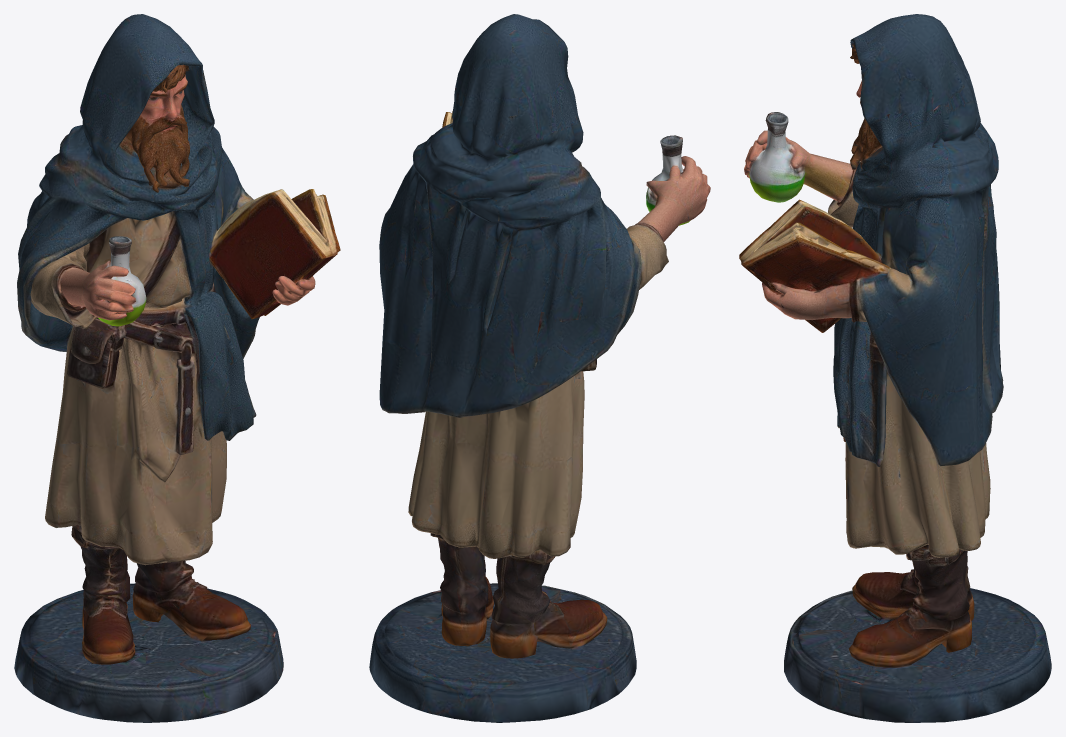
The model's file is alchimista.glb.
The picture shows the model from 3 angles, left to right: view 1: azimuth 30°, elevation 25°; view 2: azimuth 150°, elevation 25°; view 3: azimuth 270°, elevation 25°; orthographic projection.
Bounding box in the file's own units: 0.7618 × 1.9 × 0.8299.
1 material, 1 textured.
